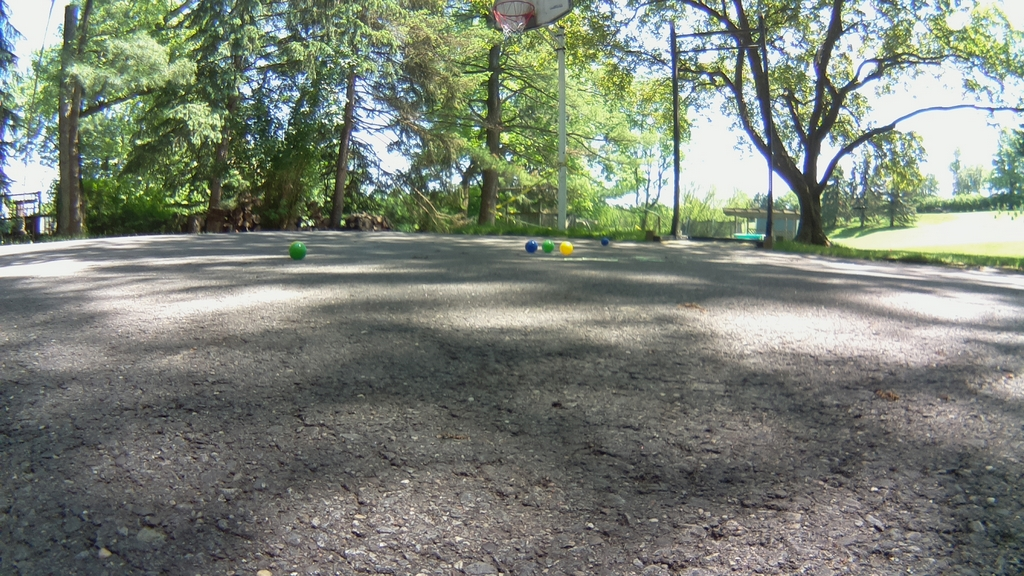ball: (559, 241, 574, 256)
